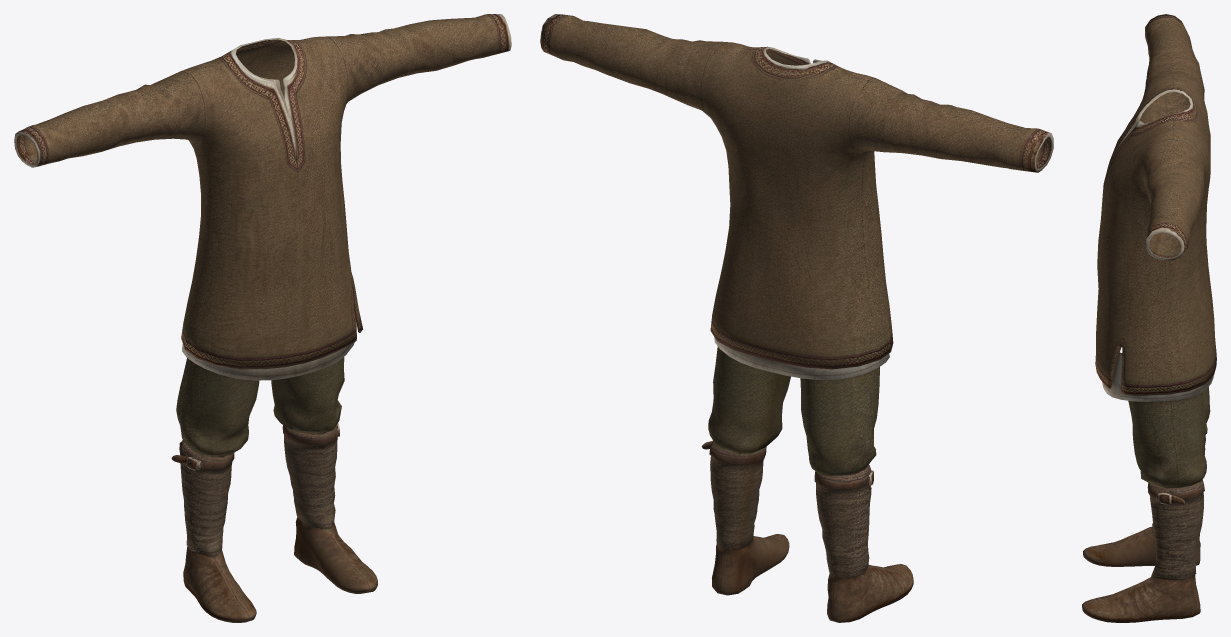
File: cloths.glb
3 views of the same model, side by side, from view 1: azimuth 30°, elevation 25°; view 2: azimuth 150°, elevation 25°; view 3: azimuth 270°, elevation 25° (orthographic). The views are drawn at different scales.
Visible parts, largest first — view 1: tripo_node_593ac940-e209-4632-be89-0699e29a8120; view 2: tripo_node_593ac940-e209-4632-be89-0699e29a8120; view 3: tripo_node_593ac940-e209-4632-be89-0699e29a8120.
Part boxes in pixels (x1,y1,x2,y2): tripo_node_593ac940-e209-4632-be89-0699e29a8120: [14, 14, 511, 622]; tripo_node_593ac940-e209-4632-be89-0699e29a8120: [540, 14, 1053, 622]; tripo_node_593ac940-e209-4632-be89-0699e29a8120: [1082, 14, 1216, 622].
Bounding box in the file's own units: 1.65 × 1.72 × 0.4332.
Materials: 1 (1 with a texture image).
